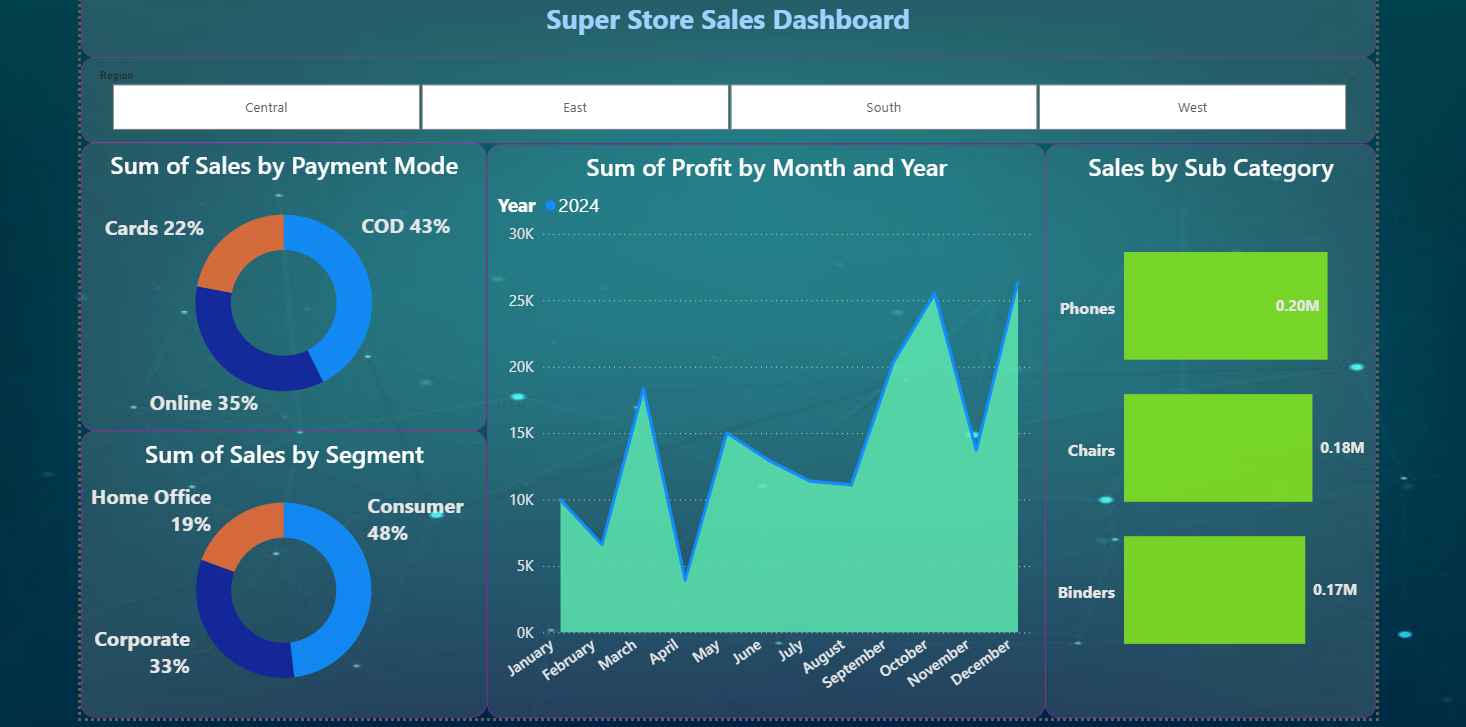

Layout of this report page (visuals, bound fields, positions):
{"tool":"powerbi","page":{"name":"Page 2","canvas":[1280,720],"ordinal":1},"visuals":[{"type":"areaChart","fields":{"Category":["Sheet1.Order Date.Variation.Date Hierarchy.Month","Sheet1.Order Date.Variation.Date Hierarchy.Day"],"Series":["Sheet1.Order Date.Variation.Date Hierarchy.Year"],"Y":["Sum(Sheet1.Profit)"]},"box":[400.6,153.1,551.8,566.9],"z":1000},{"type":"donutChart","fields":{"Category":["Sheet1.Segment"],"Y":["Sum(Sheet1.Sales)"]},"box":[0,436.5,400.6,283.5],"z":2000},{"type":"donutChart","fields":{"Category":["Sheet1.Payment Mode"],"Y":["Sum(Sheet1.Sales)"]},"box":[0,151.2,400.6,285.4],"z":3000},{"type":"slicer","fields":{"Values":["Sheet1.Region"]},"box":[0,68,1279.4,85],"z":4000},{"type":"textbox","box":[0,0,1279.4,68],"z":5000},{"type":"clusteredBarChart","title":"Sales by Sub Category","fields":{"Category":["Sheet1.Sub-Category","Sheet1.Category"],"Y":["Sum(Sheet1.Sales)"]},"box":[952.4,153.1,326.9,566.9],"z":6000}]}

Visuals, with their boxes on the page's 1280x720 design canvas (x1, y1, x2, y2). These are canvas units, not pixel positions in the 1466x727 screenshot, which may show the page scaled, cropped or inside an application window:
areaChart - Sheet1.Order Date.Variation.Date Hierarchy.Month x Sheet1.Order Date.Variation.Date Hierarchy.Day: [401,153,952,720]
donutChart - Sheet1.Segment x Sum(Sheet1.Sales): [0,436,401,720]
donutChart - Sheet1.Payment Mode x Sum(Sheet1.Sales): [0,151,401,437]
slicer - Sheet1.Region: [0,68,1279,153]
textbox: [0,0,1279,68]
"Sales by Sub Category" clusteredBarChart: [952,153,1279,720]
